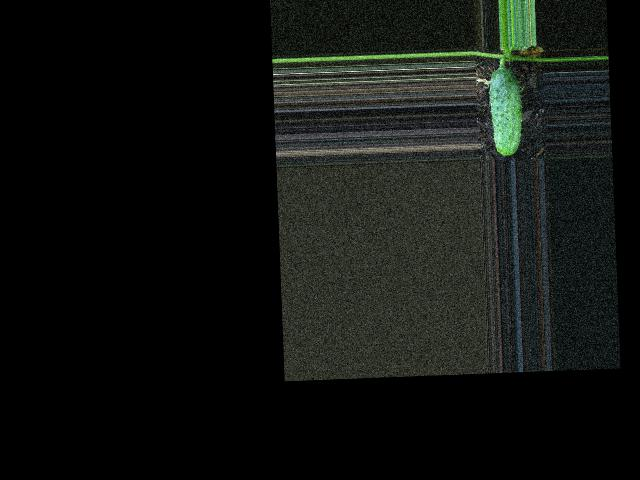cucumber: (488, 67, 523, 157)
